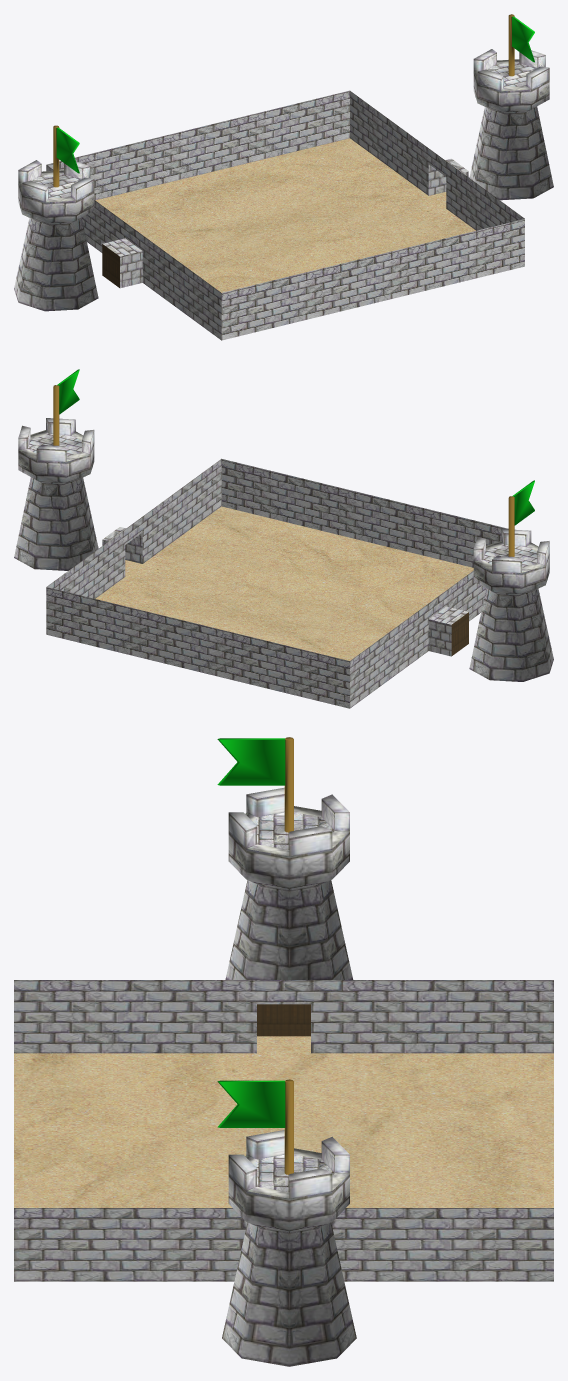
Rendered from arena.dae.
3 renders of one model, top to bottom at view 1: azimuth 30°, elevation 25°; view 2: azimuth 150°, elevation 25°; view 3: azimuth 270°, elevation 25°, orthographic. The views are drawn at different scales.
Visible parts, largest first — view 1: Bashnya; view 2: Bashnya; view 3: Bashnya.
Boxes of the visible parts, bbox=[...] form: Bashnya: bbox=[14, 14, 553, 340]; Bashnya: bbox=[14, 369, 553, 708]; Bashnya: bbox=[14, 737, 553, 1366].
Bounding box in the file's own units: 70 × 40 × 21.02.
Materials: 5 (3 with a texture image).
